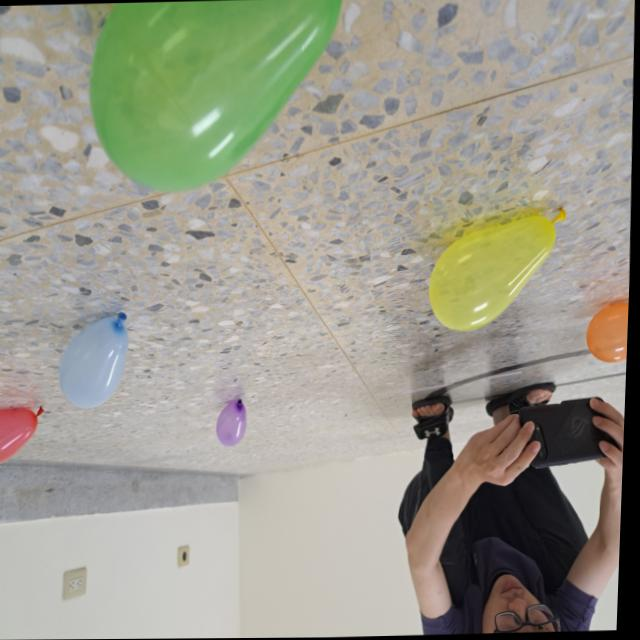other: (86, 0, 344, 193), (428, 205, 570, 332), (59, 311, 134, 409), (587, 294, 631, 365), (217, 397, 252, 448)
red: (0, 406, 48, 467)
